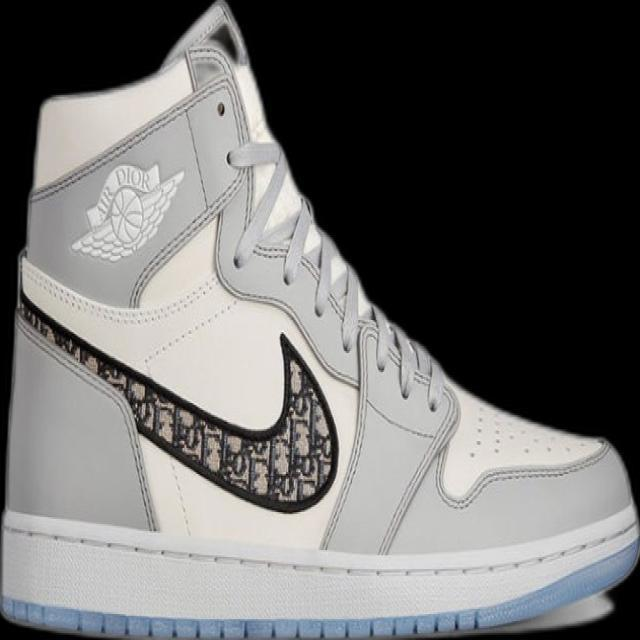J1_InsoleChar: (0, 0, 639, 639)
J1_ShoeLogo: (69, 161, 185, 263)
J1_StitchPattern: (0, 509, 639, 638), (14, 290, 337, 508), (224, 137, 445, 410)
